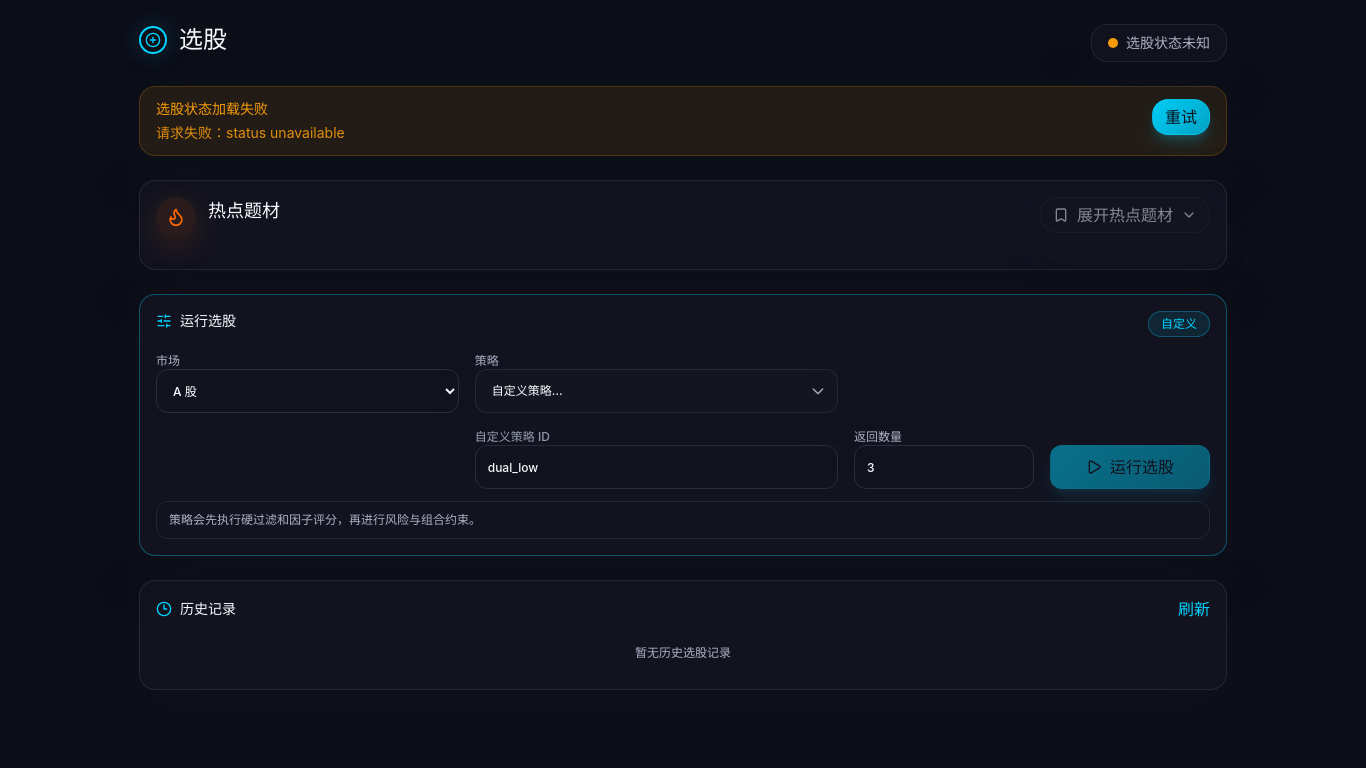
StockScreeningPage › retries unknown status without changing configuration (enabled=true)
expect the text "选股状态加载失败" is shown: met, box 156,100 -> 268,117
expect the text "选股状态未知" is shown: met, box 1126,33 -> 1210,53
Click the button "重试": point(1181, 117) 1152,99 -> 1210,135
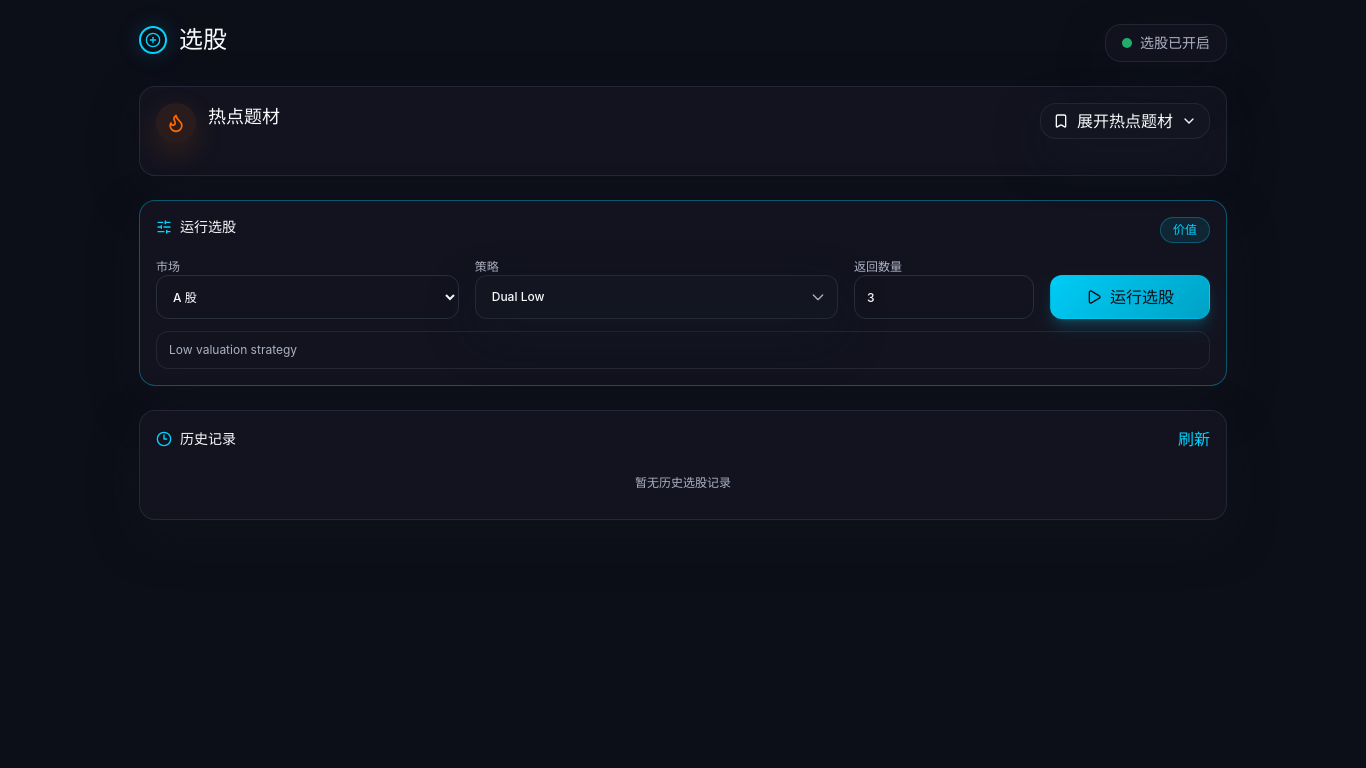
expect the button "重试" is gone: met
expect the text "选股状态加载失败" is gone: met
expect the text "选股已开启" is shown: met, box 1140,33 -> 1210,53
